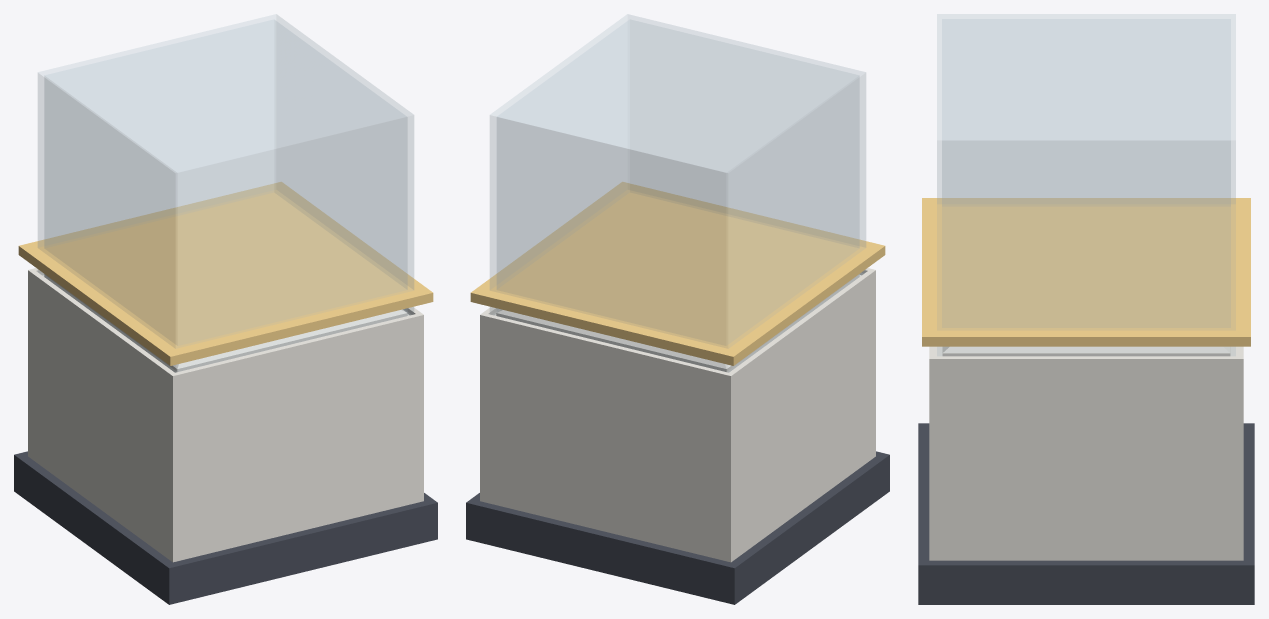
Rendered from case.glb.
The picture shows the model from 3 angles, left to right: view 1: azimuth 30°, elevation 25°; view 2: azimuth 150°, elevation 25°; view 3: azimuth 270°, elevation 25°; orthographic projection. The views are drawn at different scales.
Visible parts, largest first — view 1: CaseGlass, CaseBase, CaseTrim, CasePlinth; view 2: CaseGlass, CaseBase, CaseTrim, CasePlinth; view 3: CaseGlass, CaseBase, CaseTrim, CasePlinth.
Boxes of the visible parts, box(x1,y1,x2,y2) form: CaseGlass: box(38, 14, 413, 372); CaseBase: box(28, 268, 423, 562); CaseTrim: box(18, 182, 433, 365); CasePlinth: box(14, 451, 437, 604); CaseGlass: box(490, 14, 865, 372); CaseBase: box(480, 268, 875, 562); CaseTrim: box(470, 182, 885, 365); CasePlinth: box(466, 451, 889, 604); CaseGlass: box(937, 14, 1235, 355); CaseBase: box(929, 346, 1243, 560); CaseTrim: box(922, 198, 1250, 346); CasePlinth: box(918, 423, 1254, 604).
Size of the model in its own units: 0.92 by 1.38 by 0.92.
